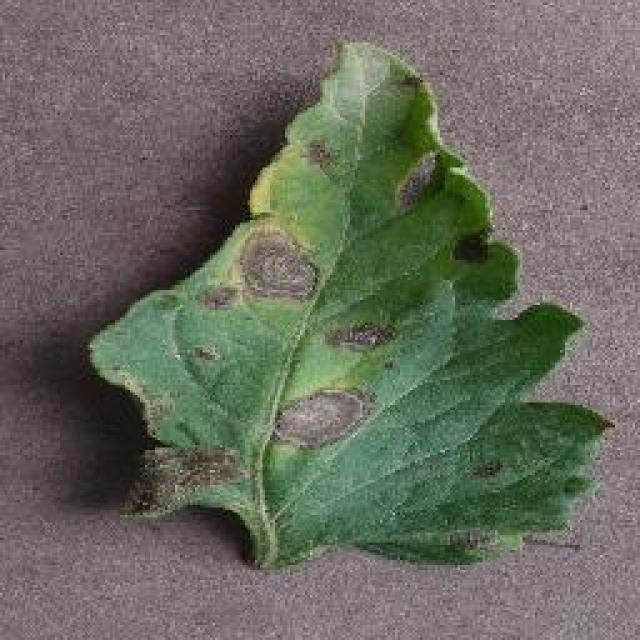Tomato Early blight leaf: (89, 39, 601, 581)
